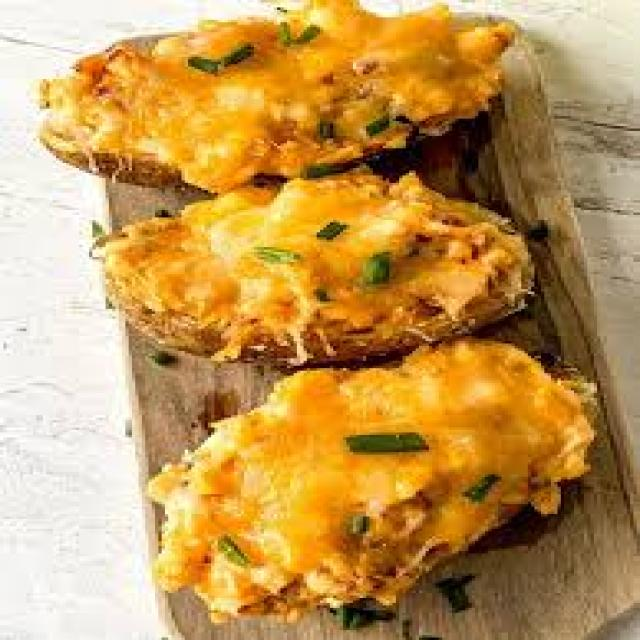Baked Potato: (200, 398, 630, 617), (127, 199, 538, 355), (94, 37, 546, 178)
